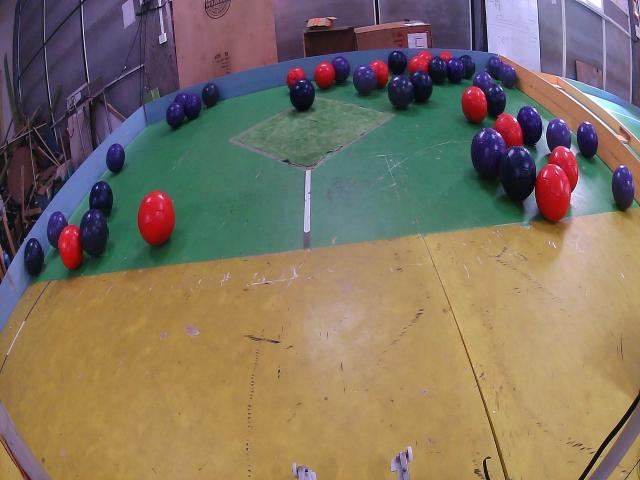jambhalya: (471, 128, 507, 180), (611, 165, 635, 210), (517, 107, 543, 144), (546, 118, 571, 152), (576, 122, 599, 158), (47, 212, 67, 248), (353, 65, 377, 95), (106, 144, 125, 173), (331, 56, 350, 84), (184, 93, 201, 120), (447, 57, 464, 83), (473, 72, 494, 93), (499, 64, 516, 88), (487, 56, 503, 79), (175, 94, 187, 104)
kaalyya: (500, 146, 536, 201), (80, 210, 108, 256), (290, 78, 315, 112), (89, 182, 112, 218), (388, 75, 413, 108), (410, 70, 432, 103), (47, 212, 67, 248), (486, 83, 507, 117), (25, 238, 43, 275), (428, 56, 448, 84), (106, 144, 125, 173), (166, 102, 185, 128), (388, 52, 408, 74), (201, 83, 219, 107), (460, 55, 476, 80)
